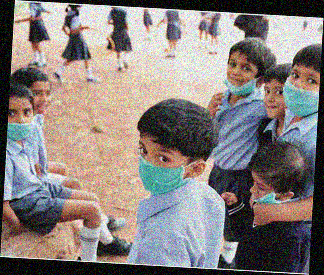mask_weared_incorrect: (223, 60, 257, 96), (8, 105, 37, 142), (249, 179, 277, 207)
with_mask: (136, 138, 187, 197), (281, 67, 320, 118)
without_mask: (262, 82, 285, 120), (30, 85, 52, 116)
